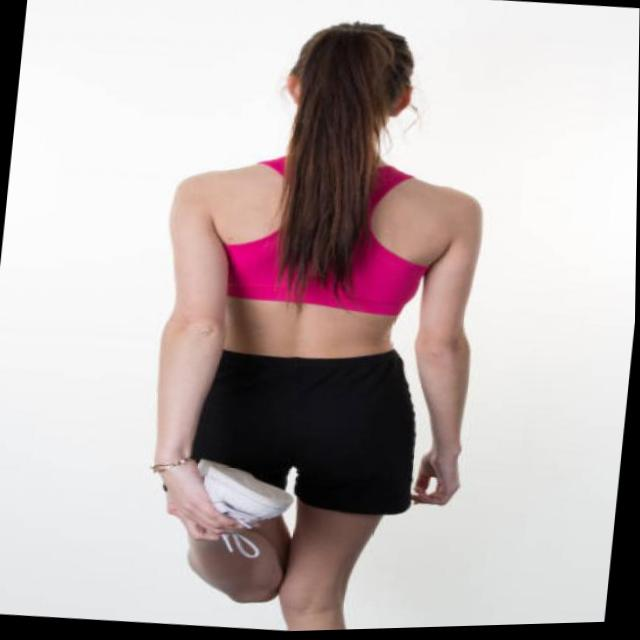no helmet: (275, 9, 429, 169)
